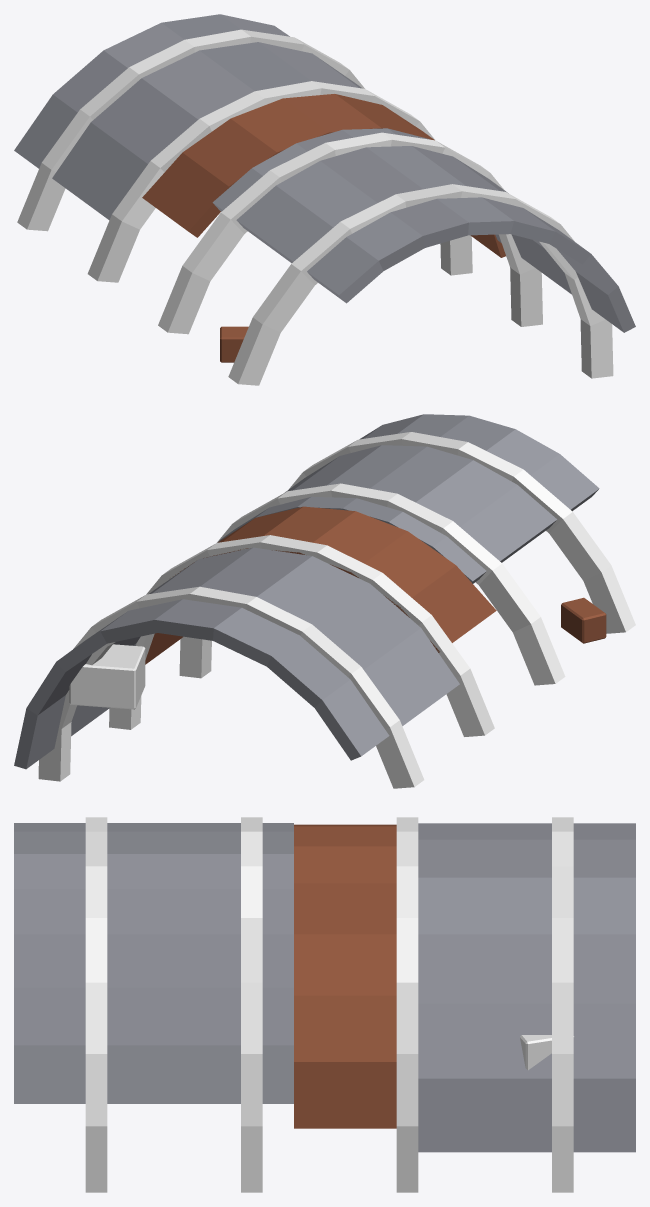
Rendered from Tech_Wreck_Hull.fbx.
3 renders of one model, top to bottom at view 1: azimuth 30°, elevation 25°; view 2: azimuth 150°, elevation 25°; view 3: azimuth 270°, elevation 25°, orthographic. The views are drawn at different scales.
Parts seen in each view (by area): view 1: Tech_Wreck_Hull; view 2: Tech_Wreck_Hull; view 3: Tech_Wreck_Hull.
Boxes of the visible parts, <box> form: Tech_Wreck_Hull: <box>14,14,635,385</box>; Tech_Wreck_Hull: <box>14,414,635,788</box>; Tech_Wreck_Hull: <box>14,817,635,1192</box>.
Size of the model in its own units: 7.7 by 4.42 by 10.
